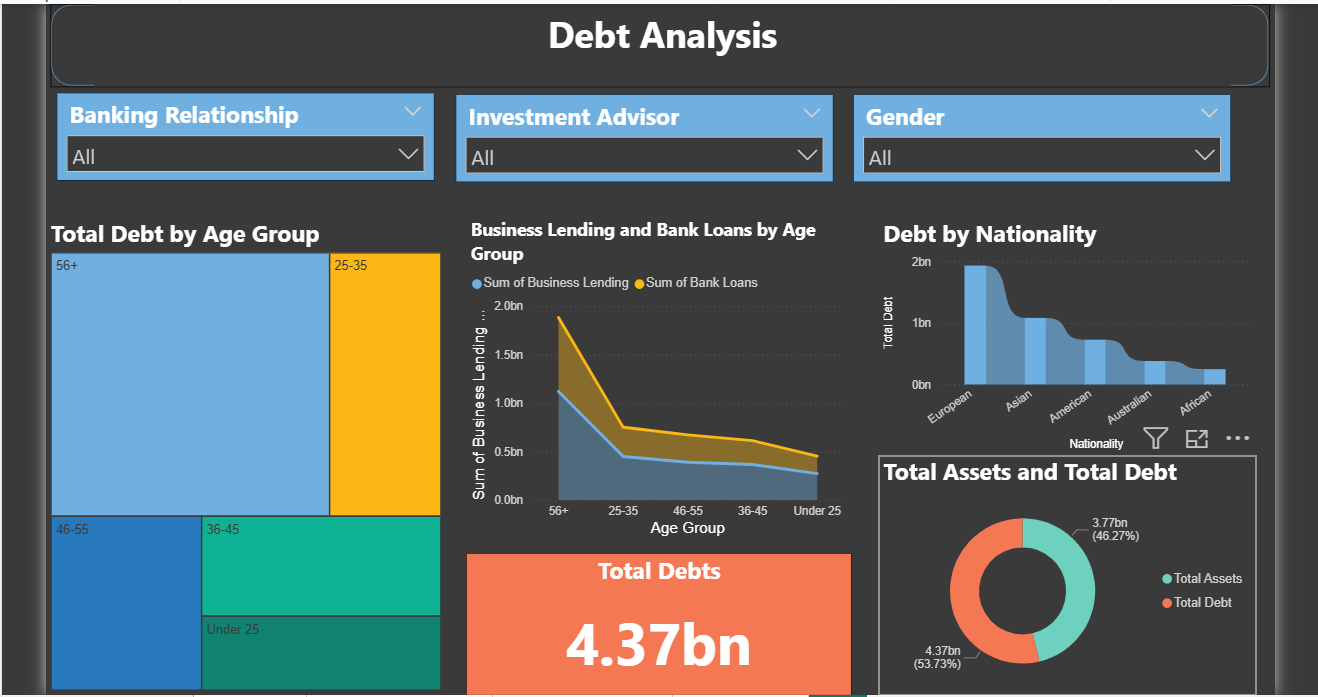

This screenshot's page, from the dashboard's own definition file:
{"tool":"powerbi","page":{"name":"Debts Analysis","canvas":[1280,720],"ordinal":2},"visuals":[{"type":"card","title":"Total Debts","fields":{"Values":["Banking Relationship.Total Debt"]},"box":[437.6,572.1,401.7,148.5],"z":0},{"type":"treemap","fields":{"Group":["Clients - Banking.Age Group"],"Values":["Banking Relationship.Total Debt"]},"box":[0,222.4,416,497.6],"z":1000},{"type":"ribbonChart","title":"Debt by Nationality","fields":{"Category":["Clients - Banking.Nationality"],"Y":["Banking Relationship.Total Debt"]},"box":[867.5,221.9,393.9,248.5],"z":2000},{"type":"donutChart","fields":{"Y":["Banking Relationship.Total Assets","Banking Relationship.Total Debt"]},"box":[867.2,470.4,393.6,249.6],"z":3000},{"type":"stackedAreaChart","title":" Business Lending and Bank Loans by Age Group","fields":{"Category":["Clients - Banking.Age Group"],"Y":["Sum(Clients - Banking.Business Lending)","Sum(Clients - Banking.Bank Loans)"]},"box":[438.4,222.4,401.6,337.6],"z":4000},{"type":"slicer","fields":{"Values":["Banking Relationship.Banking Relationship"]},"box":[11.1,92.3,394,92],"z":5000},{"type":"slicer","fields":{"Values":["Investment Advisor.Investment Advisor"]},"box":[426.3,93.8,394,92],"z":6000},{"type":"slicer","fields":{"Values":["Gender.Gender"]},"box":[841.4,93.8,394,92.3],"z":7000},{"type":"shape","box":[4.8,0,1270.4,86.4],"z":8000},{"type":"textbox","box":[50,0,1184.7,86],"z":9000}]}

Visuals, with their boxes on the page's 1280x720 design canvas (x1, y1, x2, y2). These are canvas units, not pixel positions in the 1318x697 screenshot, which may show the page scaled, cropped or inside an application window:
"Total Debts" card: 438:572:839:721
treemap - Clients - Banking.Age Group x Banking Relationship.Total Debt: 0:222:416:720
"Debt by Nationality" ribbonChart: 868:222:1261:470
donutChart - Banking Relationship.Total Assets x Banking Relationship.Total Debt: 867:470:1261:720
" Business Lending and Bank Loans by Age Group" stackedAreaChart: 438:222:840:560
slicer - Banking Relationship.Banking Relationship: 11:92:405:184
slicer - Investment Advisor.Investment Advisor: 426:94:820:186
slicer - Gender.Gender: 841:94:1235:186
shape: 5:0:1275:86
textbox: 50:0:1235:86
